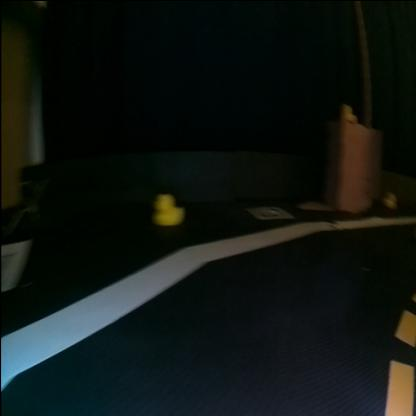Duckie: (154, 192, 184, 224), (342, 103, 357, 121), (385, 191, 396, 205)
QR code: (246, 205, 292, 217)
